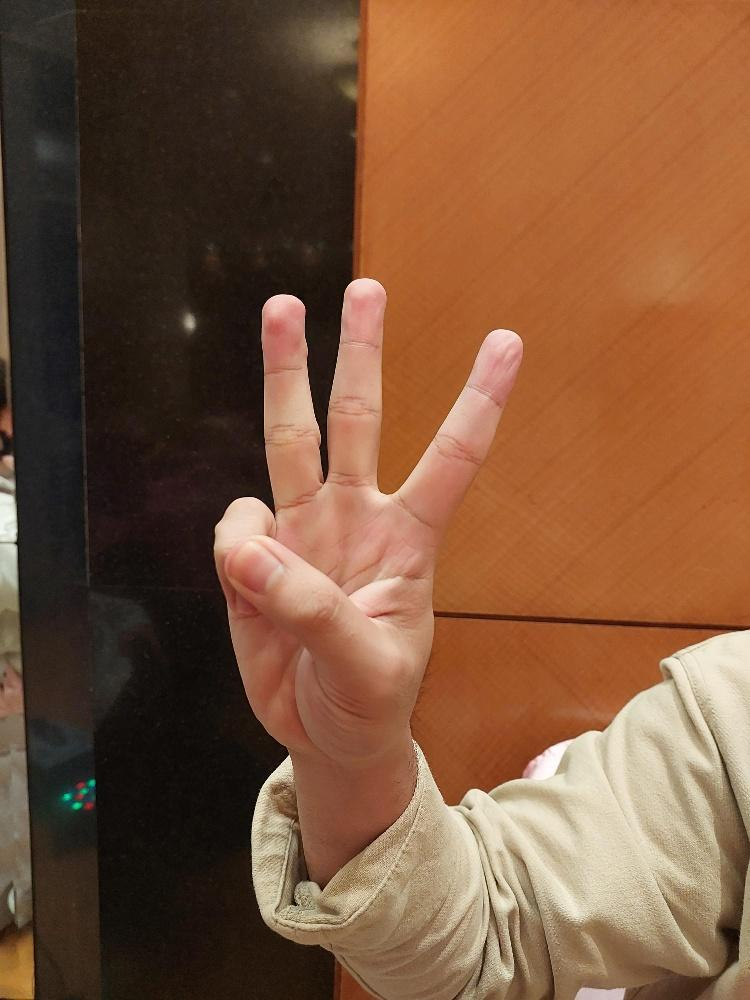w: (208, 274, 525, 766)
